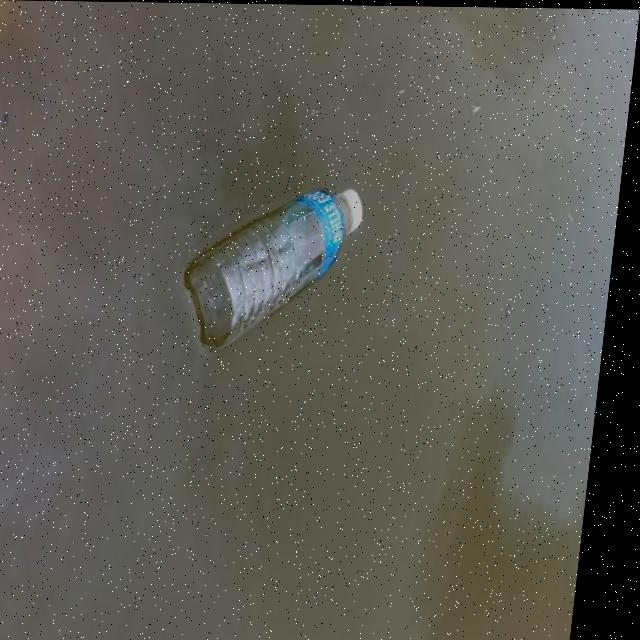waterbottle: (180, 160, 393, 358)
